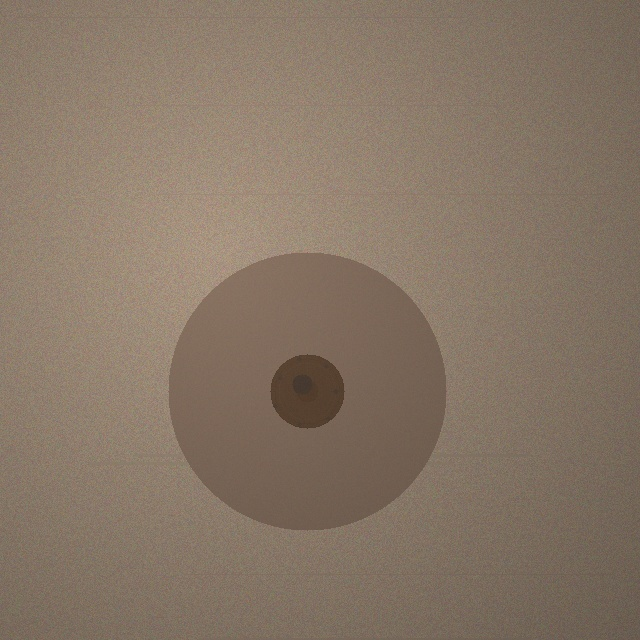cold_weld: (168, 252, 446, 530)
